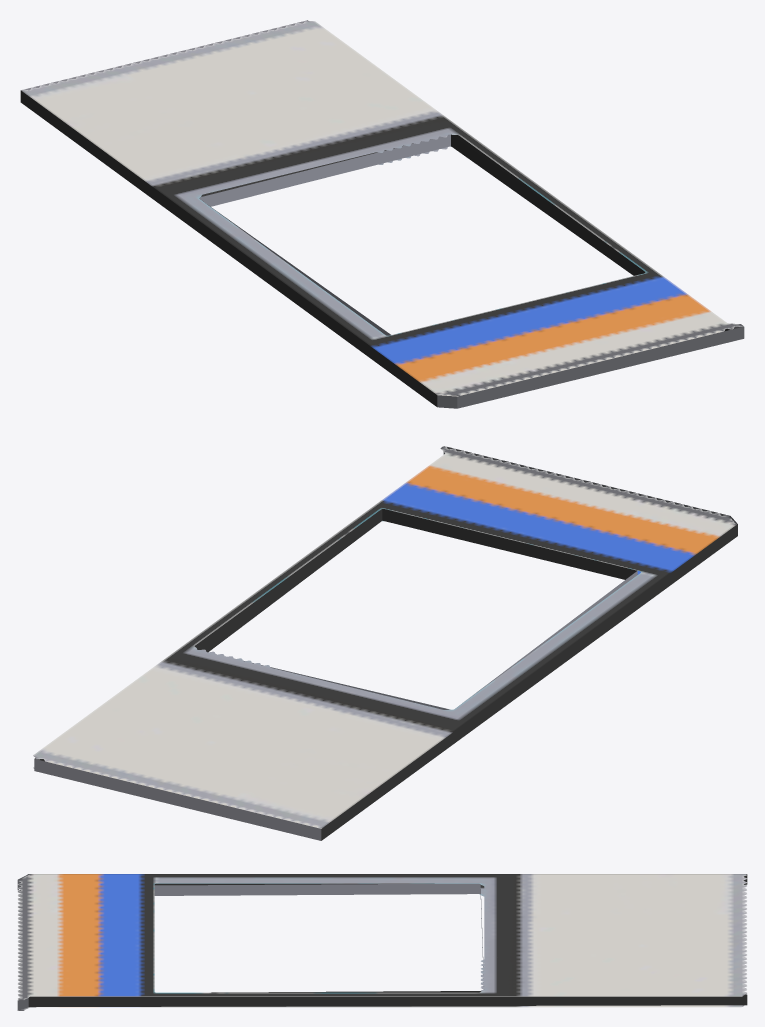
The model's file is pz_native_location_shop_fossoil_01_58_frame.obj.
3 views of the same model, one above another, from view 1: azimuth 30°, elevation 25°; view 2: azimuth 150°, elevation 25°; view 3: azimuth 270°, elevation 25° (orthographic). The views are drawn at different scales.
Parts seen in each view (by area): view 1: pz_native_location_shop_fossoil_01_58_frame; view 2: pz_native_location_shop_fossoil_01_58_frame; view 3: pz_native_location_shop_fossoil_01_58_frame.
Boxes of the visible parts, box(x1,y1,x2,y2) form: pz_native_location_shop_fossoil_01_58_frame: box(20, 20, 744, 408); pz_native_location_shop_fossoil_01_58_frame: box(33, 446, 737, 840); pz_native_location_shop_fossoil_01_58_frame: box(17, 874, 747, 1010).
Size of the model in its own units: 1.06 by 0.04 by 2.54.
1 material, 1 textured.
